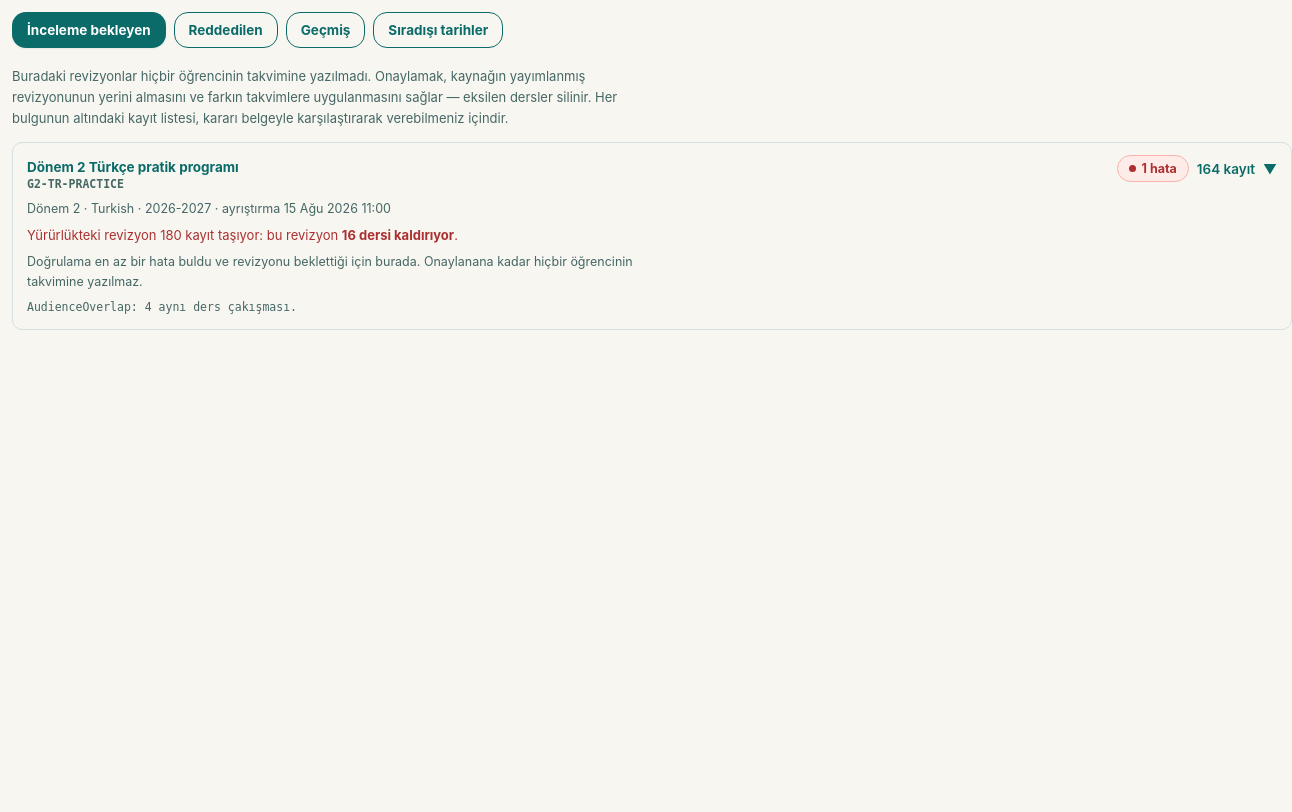
Test case: RevisionReview › offers no decision for a date the parser already repaired
The width and height of the screenshot is (1292, 812).
Click the text "Dönem 2 Türkçe pratik programı" at (133, 167), box [27,159,239,175]
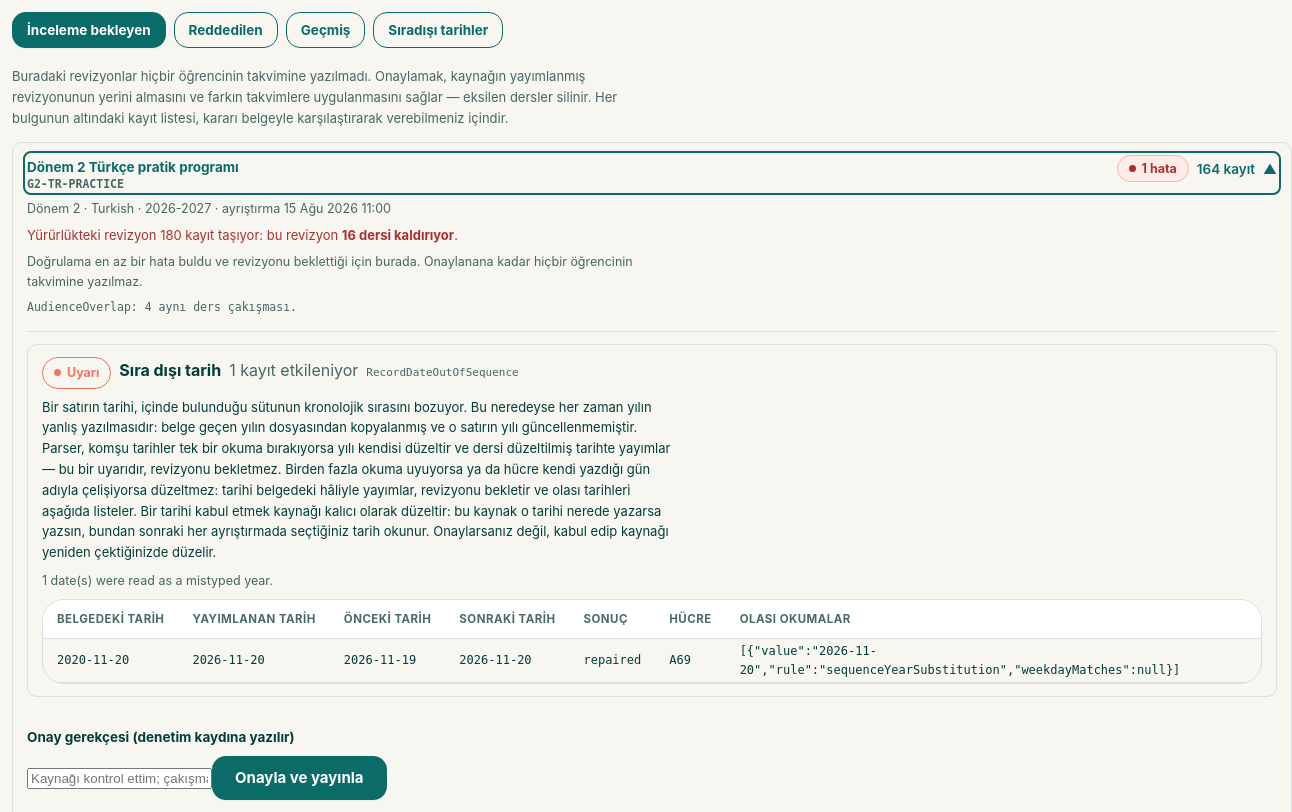
Check: the text "Sıra dışı tarih" is shown, box [119,358,221,384]
Check: the text "2020-11-20" is shown, box [43,639,178,683]
